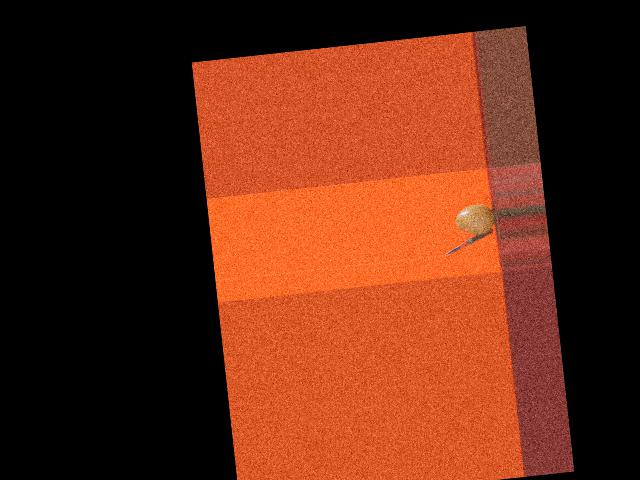egg: (455, 203, 496, 236)
